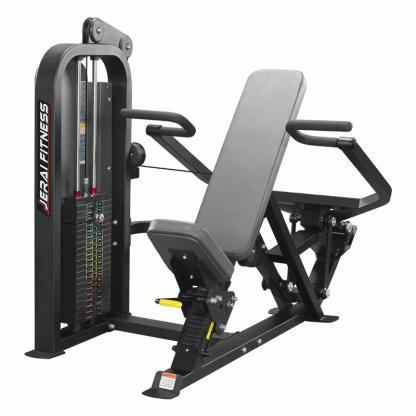shoulder press machine: (13, 17, 410, 404)
